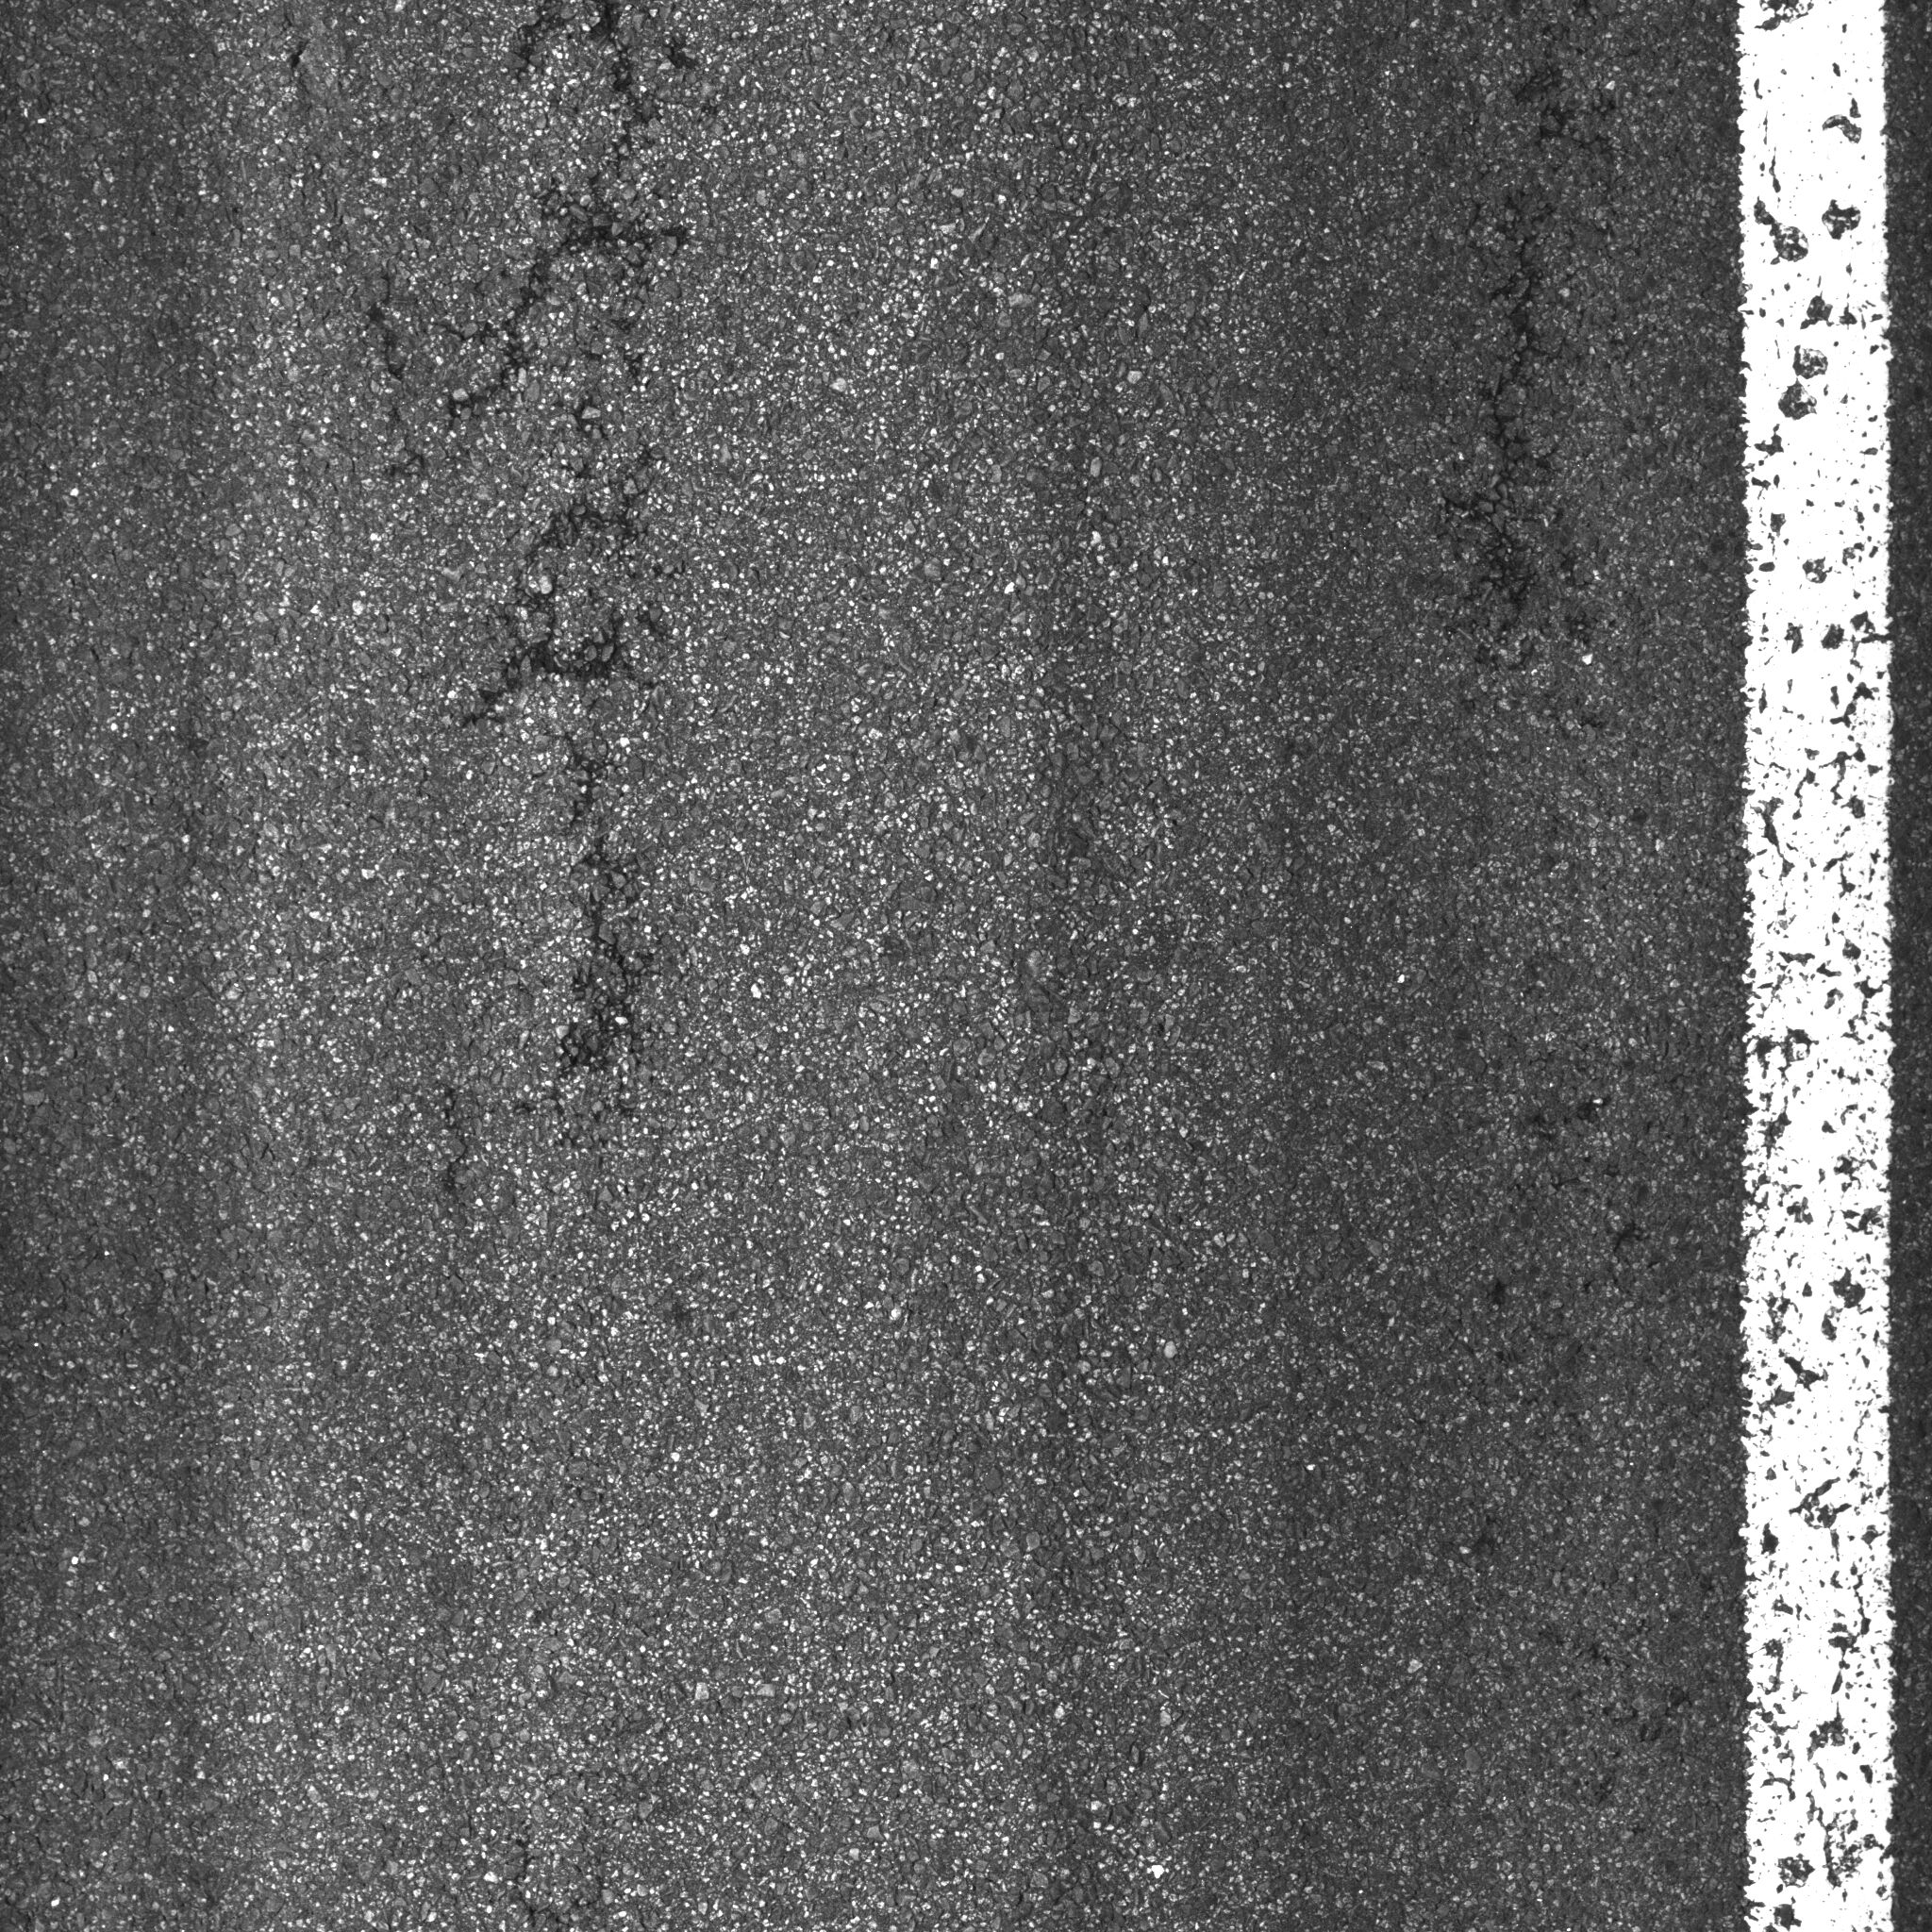longitudinal: (469, 7, 777, 1115), (1458, 152, 1589, 694)
